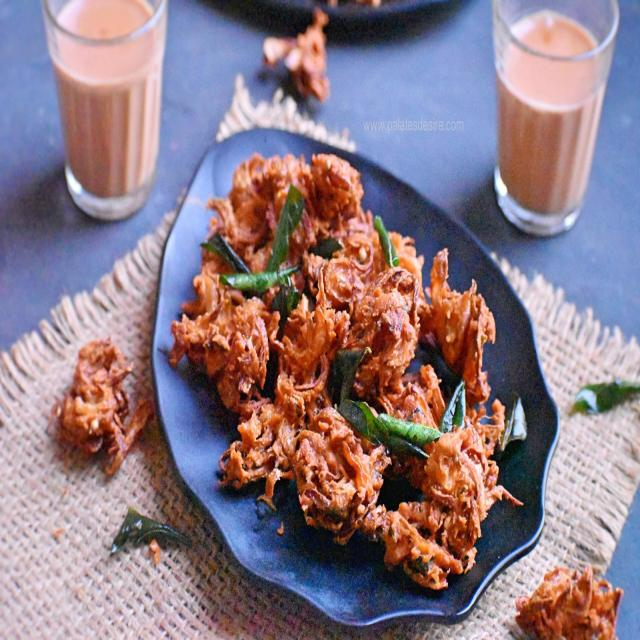BAJI: (173, 150, 517, 580), (52, 331, 153, 467), (516, 555, 628, 639)
